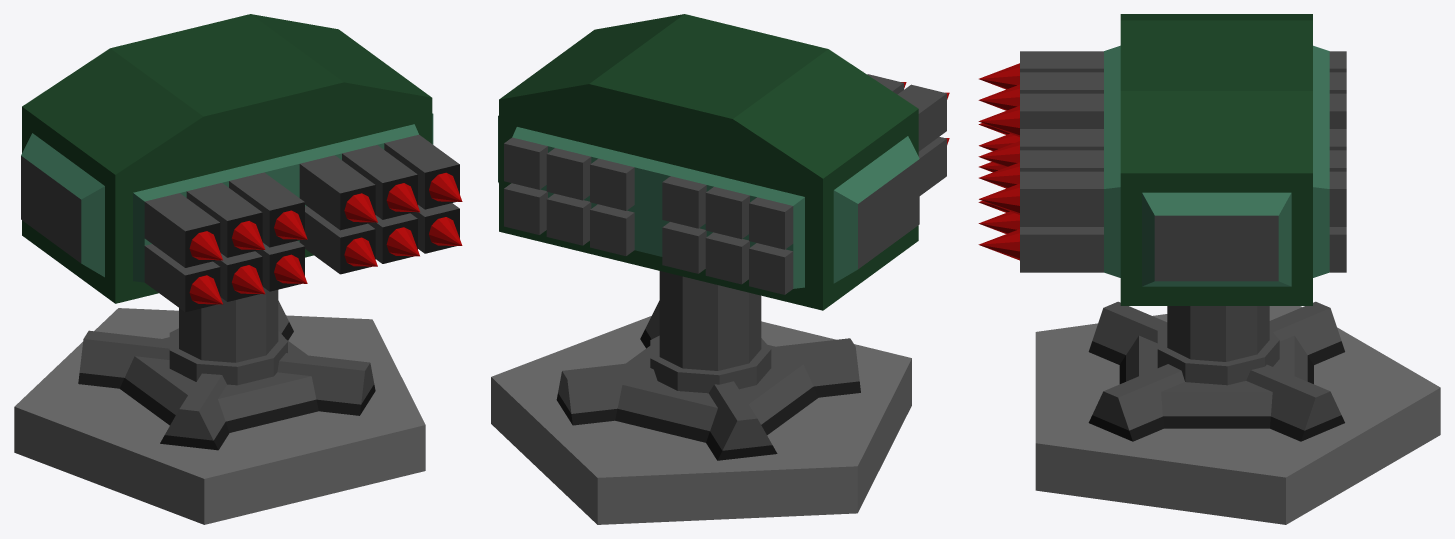
Rendered from Military_AAGun.fbx.
3 views of the same model, side by side, from view 1: azimuth 30°, elevation 25°; view 2: azimuth 150°, elevation 25°; view 3: azimuth 270°, elevation 25° (orthographic). The views are drawn at different scales.
Parts seen in each view (by area): view 1: Military_AAGun_Turret, Military_AAGun; view 2: Military_AAGun_Turret, Military_AAGun; view 3: Military_AAGun_Turret, Military_AAGun.
Part boxes in pixels (x1=…): Military_AAGun_Turret: x1=21, y1=14, x2=462, y2=362; Military_AAGun: x1=14, y1=300, x2=425, y2=524; Military_AAGun_Turret: x1=498, y1=14, x2=949, y2=370; Military_AAGun: x1=491, y1=300, x2=911, y2=524; Military_AAGun_Turret: x1=978, y1=14, x2=1346, y2=361; Military_AAGun: x1=1035, y1=301, x2=1440, y2=524.
Size of the model in its own units: 204 by 200 by 221.
